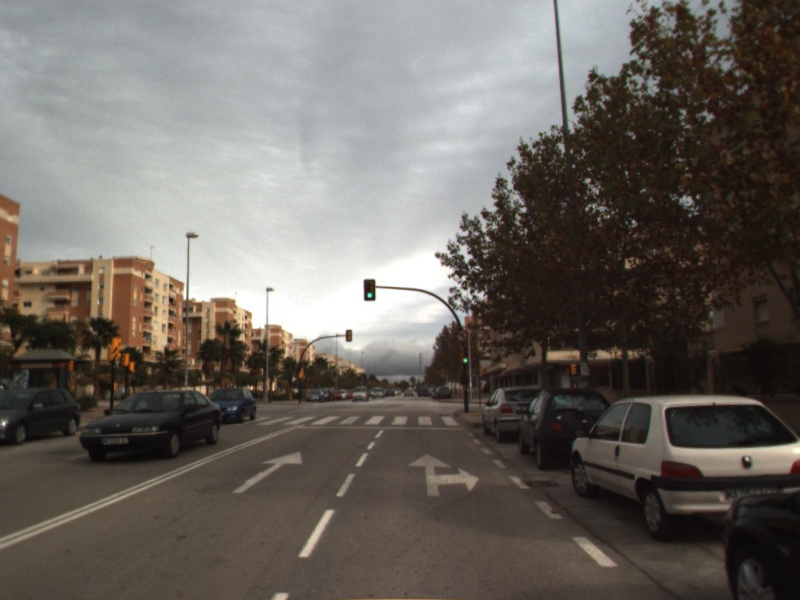STRAIGHT: (230, 449, 304, 495)
STRAIGHT_RIGHT: (407, 451, 481, 498)
